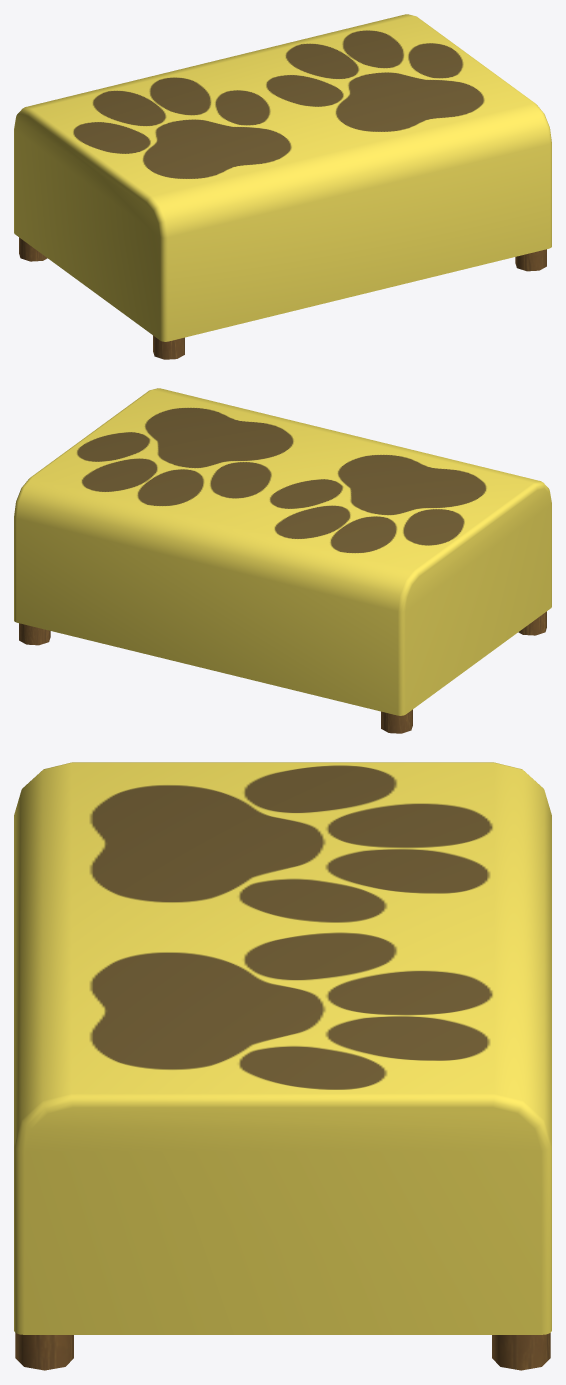
Rendered from team sofa.fbx.
3 renders of one model, top to bottom at view 1: azimuth 30°, elevation 25°; view 2: azimuth 150°, elevation 25°; view 3: azimuth 270°, elevation 25°, orthographic. The views are drawn at different scales.
Visible parts, largest first — view 1: sofa; view 2: sofa; view 3: sofa.
Part boxes in pixels (x1=…): sofa: x1=14, y1=14, x2=551, y2=359; sofa: x1=14, y1=388, x2=551, y2=733; sofa: x1=14, y1=762, x2=551, y2=1370.
Size of the model in its own units: 572 by 215 by 384.
1 material, 1 textured.
